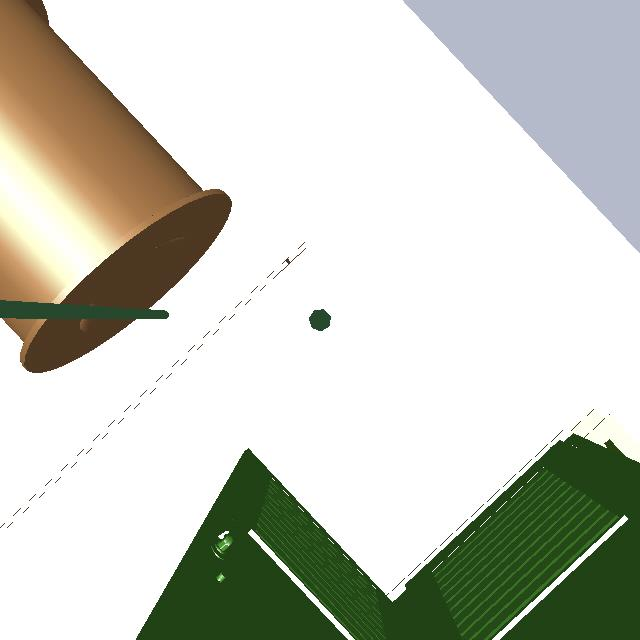Poste: (298, 306, 341, 336)
